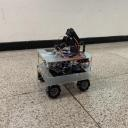cart: (37, 49, 93, 99)
